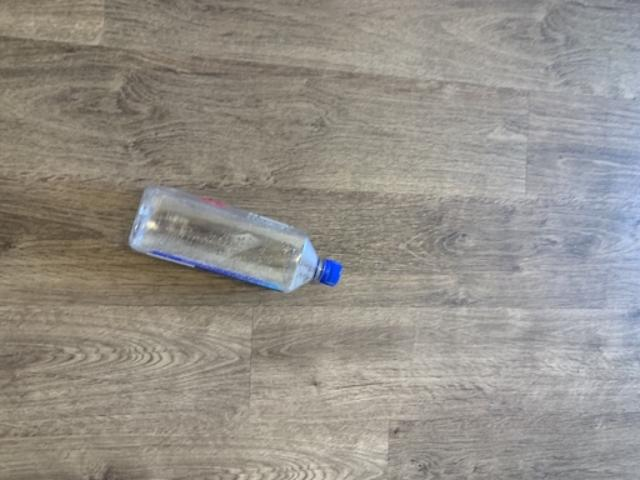plastic: (128, 185, 339, 290)
